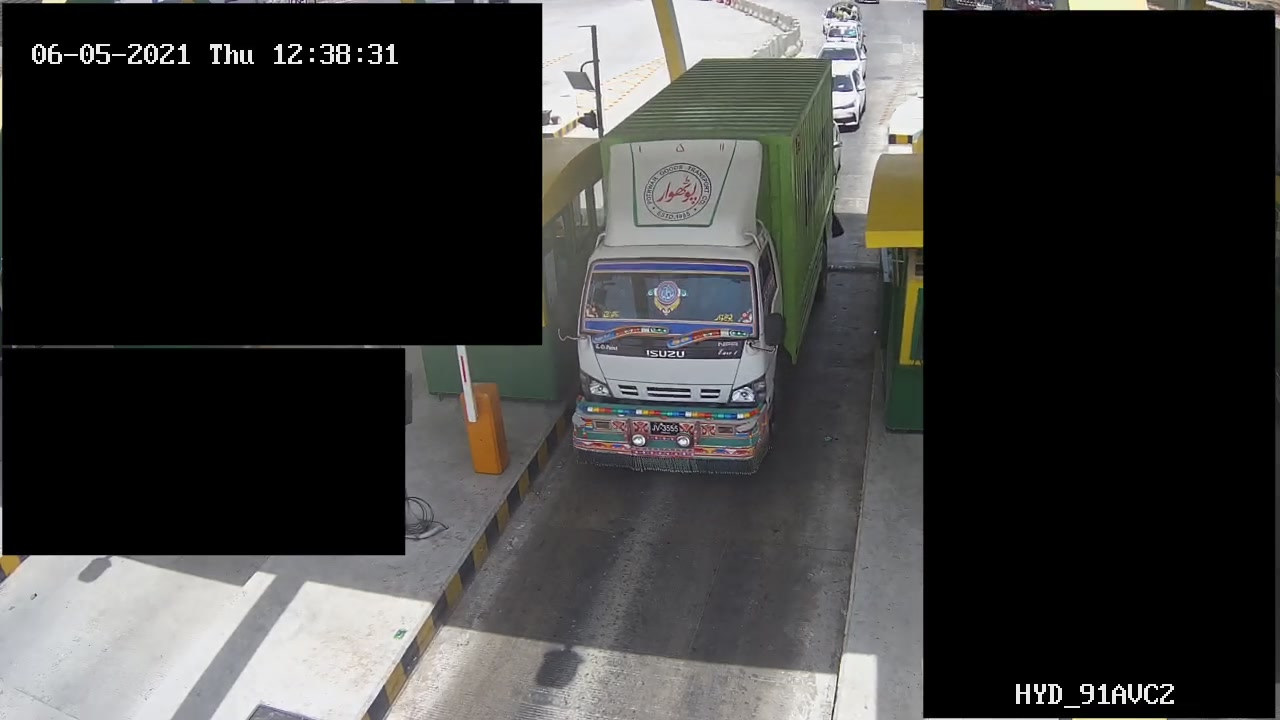F3: (570, 48, 841, 476)
